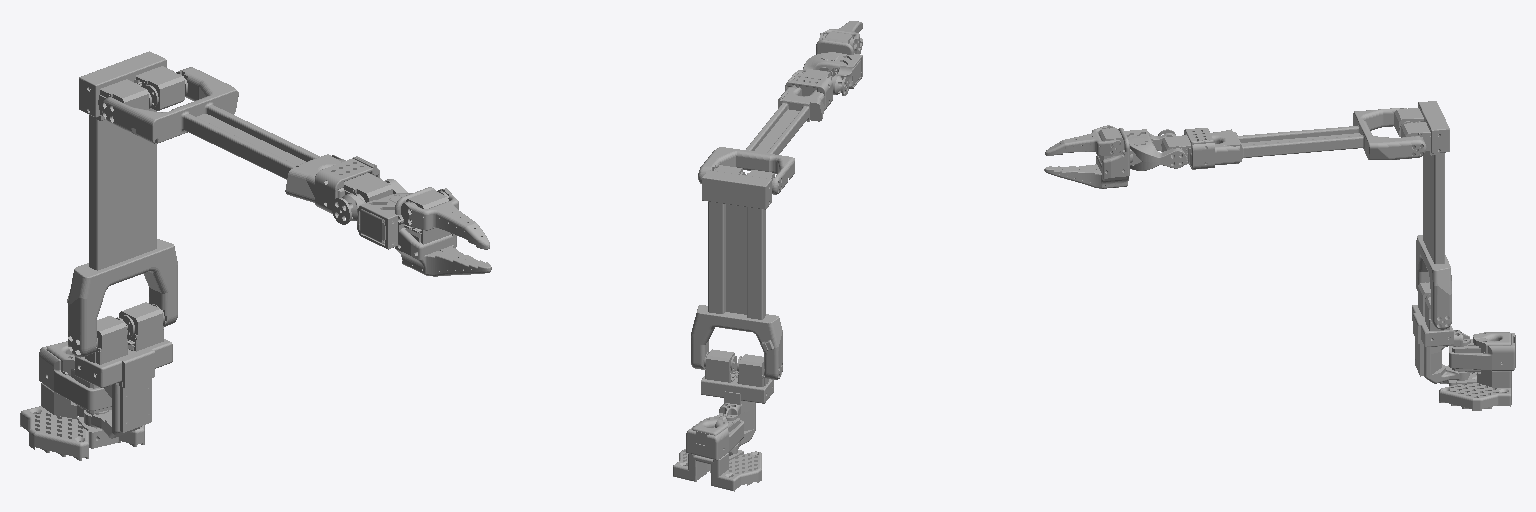
URDF robot description (PingTi_Arm_v3):
<?xml version="1.0" ?>
<!-- =================================================================================== -->
<!-- |    This document was autogenerated by xacro from /root/PingTi_Arm_v3_description/urdf/PingTi_Arm_v3.xacro | -->
<!-- |    EDITING THIS FILE BY HAND IS NOT RECOMMENDED                                 | -->
<!-- =================================================================================== -->
<robot name="PingTi_Arm_v3">
  <material name="silver">
    <color rgba="0.700 0.700 0.700 1.000"/>
  </material>
  <transmission name="elbow_pitch_tran">
    <type>transmission_interface/SimpleTransmission</type>
    <joint name="elbow_pitch">
      <hardwareInterface>hardware_interface/EffortJointInterface</hardwareInterface>
    </joint>
    <actuator name="elbow_pitch_actr">
      <hardwareInterface>hardware_interface/EffortJointInterface</hardwareInterface>
      <mechanicalReduction>1</mechanicalReduction>
    </actuator>
  </transmission>
  <transmission name="wrist_pitch_tran">
    <type>transmission_interface/SimpleTransmission</type>
    <joint name="wrist_pitch">
      <hardwareInterface>hardware_interface/EffortJointInterface</hardwareInterface>
    </joint>
    <actuator name="wrist_pitch_actr">
      <hardwareInterface>hardware_interface/EffortJointInterface</hardwareInterface>
      <mechanicalReduction>1</mechanicalReduction>
    </actuator>
  </transmission>
  <transmission name="wrist_roll_tran">
    <type>transmission_interface/SimpleTransmission</type>
    <joint name="wrist_roll">
      <hardwareInterface>hardware_interface/EffortJointInterface</hardwareInterface>
    </joint>
    <actuator name="wrist_roll_actr">
      <hardwareInterface>hardware_interface/EffortJointInterface</hardwareInterface>
      <mechanicalReduction>1</mechanicalReduction>
    </actuator>
  </transmission>
  <transmission name="gripper_moving_tran">
    <type>transmission_interface/SimpleTransmission</type>
    <joint name="gripper_moving">
      <hardwareInterface>hardware_interface/EffortJointInterface</hardwareInterface>
    </joint>
    <actuator name="gripper_moving_actr">
      <hardwareInterface>hardware_interface/EffortJointInterface</hardwareInterface>
      <mechanicalReduction>1</mechanicalReduction>
    </actuator>
  </transmission>
  <transmission name="base_yaw_tran">
    <type>transmission_interface/SimpleTransmission</type>
    <joint name="base_yaw">
      <hardwareInterface>hardware_interface/EffortJointInterface</hardwareInterface>
    </joint>
    <actuator name="base_yaw_actr">
      <hardwareInterface>hardware_interface/EffortJointInterface</hardwareInterface>
      <mechanicalReduction>1</mechanicalReduction>
    </actuator>
  </transmission>
  <transmission name="shoulder_pitch_tran">
    <type>transmission_interface/SimpleTransmission</type>
    <joint name="shoulder_pitch">
      <hardwareInterface>hardware_interface/EffortJointInterface</hardwareInterface>
    </joint>
    <actuator name="shoulder_pitch_actr">
      <hardwareInterface>hardware_interface/EffortJointInterface</hardwareInterface>
      <mechanicalReduction>1</mechanicalReduction>
    </actuator>
  </transmission>
  <gazebo>
    <plugin filename="libgazebo_ros_control.so" name="control"/>
  </gazebo>
  <gazebo reference="base_link">
    <material>Gazebo/Silver</material>
    <mu1>0.2</mu1>
    <mu2>0.2</mu2>
    <selfCollide>true</selfCollide>
    <gravity>true</gravity>
  </gazebo>
  <gazebo reference="elbow_link_1">
    <material>Gazebo/Silver</material>
    <mu1>0.2</mu1>
    <mu2>0.2</mu2>
    <selfCollide>true</selfCollide>
  </gazebo>
  <gazebo reference="STS3215_wrist_pitch_1">
    <material>Gazebo/Silver</material>
    <mu1>0.2</mu1>
    <mu2>0.2</mu2>
    <selfCollide>true</selfCollide>
  </gazebo>
  <gazebo reference="wrist_link_1">
    <material>Gazebo/Silver</material>
    <mu1>0.2</mu1>
    <mu2>0.2</mu2>
    <selfCollide>true</selfCollide>
  </gazebo>
  <gazebo reference="STS3215_wrist_roll_1">
    <material>Gazebo/Silver</material>
    <mu1>0.2</mu1>
    <mu2>0.2</mu2>
    <selfCollide>true</selfCollide>
  </gazebo>
  <gazebo reference="gripper_mount_1">
    <material>Gazebo/Silver</material>
    <mu1>0.2</mu1>
    <mu2>0.2</mu2>
    <selfCollide>true</selfCollide>
  </gazebo>
  <gazebo reference="STS3215_gripper_1">
    <material>Gazebo/Silver</material>
    <mu1>0.2</mu1>
    <mu2>0.2</mu2>
    <selfCollide>true</selfCollide>
  </gazebo>
  <gazebo reference="moving_gripper_1">
    <material>Gazebo/Silver</material>
    <mu1>0.2</mu1>
    <mu2>0.2</mu2>
    <selfCollide>true</selfCollide>
  </gazebo>
  <gazebo reference="wrist_mount_link_1">
    <material>Gazebo/Silver</material>
    <mu1>0.2</mu1>
    <mu2>0.2</mu2>
    <selfCollide>true</selfCollide>
  </gazebo>
  <gazebo reference="STS3215_base_yaw_1">
    <material>Gazebo/Silver</material>
    <mu1>0.2</mu1>
    <mu2>0.2</mu2>
    <selfCollide>true</selfCollide>
  </gazebo>
  <gazebo reference="base_yaw_link_1">
    <material>Gazebo/Silver</material>
    <mu1>0.2</mu1>
    <mu2>0.2</mu2>
    <selfCollide>true</selfCollide>
  </gazebo>
  <gazebo reference="STS3215_shoulder_pitch_1_1">
    <material>Gazebo/Silver</material>
    <mu1>0.2</mu1>
    <mu2>0.2</mu2>
    <selfCollide>true</selfCollide>
  </gazebo>
  <gazebo reference="STS3215_shoulder_pitch_2_1">
    <material>Gazebo/Silver</material>
    <mu1>0.2</mu1>
    <mu2>0.2</mu2>
    <selfCollide>true</selfCollide>
  </gazebo>
  <gazebo reference="shoulder_link_1">
    <material>Gazebo/Silver</material>
    <mu1>0.2</mu1>
    <mu2>0.2</mu2>
    <selfCollide>true</selfCollide>
  </gazebo>
  <gazebo reference="STS3215_elbow_pitch_1_1">
    <material>Gazebo/Silver</material>
    <mu1>0.2</mu1>
    <mu2>0.2</mu2>
    <selfCollide>true</selfCollide>
  </gazebo>
  <gazebo reference="STS3215_elbow_pitch_2_1">
    <material>Gazebo/Silver</material>
    <mu1>0.2</mu1>
    <mu2>0.2</mu2>
    <selfCollide>true</selfCollide>
  </gazebo>
  <link name="base_link">
    <inertial>
      <origin rpy="0 0 0" xyz="-3.2942227991692706e-06 -0.016410113639789673 0.025524321515390098"/>
      <mass value="1.1606702094747876"/>
      <inertia ixx="0.001182" ixy="-0.0" ixz="0.0" iyy="0.001221" iyz="-0.000216" izz="0.001296"/>
    </inertial>
    <visual>
      <origin rpy="0 0 0" xyz="0 0 0"/>
      <geometry>
        <mesh filename="meshes/base_link.stl" scale="0.001 0.001 0.001"/>
      </geometry>
      <material name="silver"/>
    </visual>
    <collision>
      <origin rpy="0 0 0" xyz="0 0 0"/>
      <geometry>
        <mesh filename="meshes/base_link.stl" scale="0.001 0.001 0.001"/>
      </geometry>
    </collision>
  </link>
  <link name="elbow_link_1">
    <inertial>
      <origin rpy="0 0 0" xyz="-0.006368202700747123 -0.13257432066234234 -0.000710253994771759"/>
      <mass value="1.3232321824941673"/>
      <inertia ixx="0.009536" ixy="0.001261" ixz="7e-06" iyy="0.001028" iyz="-4.6e-05" izz="0.010469"/>
    </inertial>
    <visual>
      <origin rpy="0 0 0" xyz="-0.052878 0.100187 -0.3528"/>
      <geometry>
        <mesh filename="meshes/elbow_link_1.stl" scale="0.001 0.001 0.001"/>
      </geometry>
      <material name="silver"/>
    </visual>
    <collision>
      <origin rpy="0 0 0" xyz="-0.052878 0.100187 -0.3528"/>
      <geometry>
        <mesh filename="meshes/elbow_link_1.stl" scale="0.001 0.001 0.001"/>
      </geometry>
    </collision>
  </link>
  <link name="STS3215_wrist_pitch_1">
    <inertial>
      <origin rpy="0 0 0" xyz="-0.015103902665090832 -0.015364326843161913 -2.529961420916216e-07"/>
      <mass value="0.2843033831904074"/>
      <inertia ixx="6.1e-05" ixy="4e-06" ixz="-0.0" iyy="4e-05" iyz="-0.0" izz="7.3e-05"/>
    </inertial>
    <visual>
      <origin rpy="0 0 0" xyz="-0.088612 0.364006 -0.355125"/>
      <geometry>
        <mesh filename="meshes/STS3215_wrist_pitch_1.stl" scale="0.001 0.001 0.001"/>
      </geometry>
      <material name="silver"/>
    </visual>
    <collision>
      <origin rpy="0 0 0" xyz="-0.088612 0.364006 -0.355125"/>
      <geometry>
        <mesh filename="meshes/STS3215_wrist_pitch_1.stl" scale="0.001 0.001 0.001"/>
      </geometry>
    </collision>
  </link>
  <link name="wrist_link_1">
    <inertial>
      <origin rpy="0 0 0" xyz="0.019701433146455137 -0.022957641297722542 -5.135733105687823e-05"/>
      <mass value="0.2392168278135931"/>
      <inertia ixx="0.000118" ixy="-8e-06" ixz="-0.0" iyy="0.000123" iyz="0.0" izz="0.0002"/>
    </inertial>
    <visual>
      <origin rpy="0 0 0" xyz="-0.056252 0.395423 -0.354675"/>
      <geometry>
        <mesh filename="meshes/wrist_link_1.stl" scale="0.001 0.001 0.001"/>
      </geometry>
      <material name="silver"/>
    </visual>
    <collision>
      <origin rpy="0 0 0" xyz="-0.056252 0.395423 -0.354675"/>
      <geometry>
        <mesh filename="meshes/wrist_link_1.stl" scale="0.001 0.001 0.001"/>
      </geometry>
    </collision>
  </link>
  <link name="STS3215_wrist_roll_1">
    <inertial>
      <origin rpy="0 0 0" xyz="-0.008933246759550137 -0.020582128831145963 -2.5299615225016225e-07"/>
      <mass value="0.2843033831904074"/>
      <inertia ixx="4e-05" ixy="-4e-06" ixz="0.0" iyy="6.1e-05" iyz="-0.0" izz="7.3e-05"/>
    </inertial>
    <visual>
      <origin rpy="0 0 0" xyz="-0.078363 0.413656 -0.354675"/>
      <geometry>
        <mesh filename="meshes/STS3215_wrist_roll_1.stl" scale="0.001 0.001 0.001"/>
      </geometry>
      <material name="silver"/>
    </visual>
    <collision>
      <origin rpy="0 0 0" xyz="-0.078363 0.413656 -0.354675"/>
      <geometry>
        <mesh filename="meshes/STS3215_wrist_roll_1.stl" scale="0.001 0.001 0.001"/>
      </geometry>
    </collision>
  </link>
  <link name="gripper_mount_1">
    <inertial>
      <origin rpy="0 0 0" xyz="0.0026773059376802855 -0.020173178230651845 -0.01565257096694167"/>
      <mass value="0.44698022927880193"/>
      <inertia ixx="0.000327" ixy="3.1e-05" ixz="7e-06" iyy="0.000172" iyz="-5.5e-05" izz="0.000301"/>
    </inertial>
    <visual>
      <origin rpy="0 0 0" xyz="-0.087531 0.451084 -0.355125"/>
      <geometry>
        <mesh filename="meshes/gripper_mount_1.stl" scale="0.001 0.001 0.001"/>
      </geometry>
      <material name="silver"/>
    </visual>
    <collision>
      <origin rpy="0 0 0" xyz="-0.087531 0.451084 -0.355125"/>
      <geometry>
        <mesh filename="meshes/gripper_mount_1.stl" scale="0.001 0.001 0.001"/>
      </geometry>
    </collision>
  </link>
  <link name="STS3215_gripper_1">
    <inertial>
      <origin rpy="0 0 0" xyz="0.00012461197605628804 2.539181574140459e-05 0.02239868354094854"/>
      <mass value="0.2843033831904074"/>
      <inertia ixx="6.2e-05" ixy="-2e-06" ixz="-1e-06" iyy="7.3e-05" iyz="-0.0" izz="4e-05"/>
    </inertial>
    <visual>
      <origin rpy="0 0 0" xyz="-0.088124 0.465652 -0.338236"/>
      <geometry>
        <mesh filename="meshes/STS3215_gripper_1.stl" scale="0.001 0.001 0.001"/>
      </geometry>
      <material name="silver"/>
    </visual>
    <collision>
      <origin rpy="0 0 0" xyz="-0.088124 0.465652 -0.338236"/>
      <geometry>
        <mesh filename="meshes/STS3215_gripper_1.stl" scale="0.001 0.001 0.001"/>
      </geometry>
    </collision>
  </link>
  <link name="moving_gripper_1">
    <inertial>
      <origin rpy="0 0 0" xyz="-0.014635153287696837 -0.03276490039211122 -0.0005006987132448737"/>
      <mass value="0.1586808414280307"/>
      <inertia ixx="6.8e-05" ixy="1e-05" ixz="1e-06" iyy="2.6e-05" iyz="-4e-06" izz="8.7e-05"/>
    </inertial>
    <visual>
      <origin rpy="0 0 0" xyz="-0.107931 0.461685 -0.373436"/>
      <geometry>
        <mesh filename="meshes/moving_gripper_1.stl" scale="0.001 0.001 0.001"/>
      </geometry>
      <material name="silver"/>
    </visual>
    <collision>
      <origin rpy="0 0 0" xyz="-0.107931 0.461685 -0.373436"/>
      <geometry>
        <mesh filename="meshes/moving_gripper_1.stl" scale="0.001 0.001 0.001"/>
      </geometry>
    </collision>
  </link>
  <link name="wrist_mount_link_1">
    <inertial>
      <origin rpy="0 0 0" xyz="0.022710832853232152 0.004489136774674496 0.0018439782253499293"/>
      <mass value="0.10853073755546008"/>
      <inertia ixx="2.8e-05" ixy="-6e-06" ixz="-0.0" iyy="5.7e-05" iyz="0.0" izz="4.6e-05"/>
    </inertial>
    <visual>
      <origin rpy="0 0 0" xyz="-0.046447 0.363782 -0.3548"/>
      <geometry>
        <mesh filename="meshes/wrist_mount_link_1.stl" scale="0.001 0.001 0.001"/>
      </geometry>
      <material name="silver"/>
    </visual>
    <collision>
      <origin rpy="0 0 0" xyz="-0.046447 0.363782 -0.3548"/>
      <geometry>
        <mesh filename="meshes/wrist_mount_link_1.stl" scale="0.001 0.001 0.001"/>
      </geometry>
    </collision>
  </link>
  <link name="STS3215_base_yaw_1">
    <inertial>
      <origin rpy="0 0 0" xyz="6.752884890919568e-12 0.02300097243678148 0.00012706492471613318"/>
      <mass value="0.2843033831904074"/>
      <inertia ixx="7.3e-05" ixy="-0.0" ixz="0.0" iyy="4e-05" iyz="1e-06" izz="6.2e-05"/>
    </inertial>
    <visual>
      <origin rpy="0 0 0" xyz="0.0 0.0554 -0.0481"/>
      <geometry>
        <mesh filename="meshes/STS3215_base_yaw_1.stl" scale="0.001 0.001 0.001"/>
      </geometry>
      <material name="silver"/>
    </visual>
    <collision>
      <origin rpy="0 0 0" xyz="0.0 0.0554 -0.0481"/>
      <geometry>
        <mesh filename="meshes/STS3215_base_yaw_1.stl" scale="0.001 0.001 0.001"/>
      </geometry>
    </collision>
  </link>
  <link name="base_yaw_link_1">
    <inertial>
      <origin rpy="0 0 0" xyz="0.0066121913949635435 -0.03322206721963538 0.03628999238042017"/>
      <mass value="0.8041215139582379"/>
      <inertia ixx="0.000599" ixy="-7e-06" ixz="-9e-06" iyy="0.000638" iyz="3.9e-05" izz="0.00036"/>
    </inertial>
    <visual>
      <origin rpy="0 0 0" xyz="0.0 0.0452 -0.0298"/>
      <geometry>
        <mesh filename="meshes/base_yaw_link_1.stl" scale="0.001 0.001 0.001"/>
      </geometry>
      <material name="silver"/>
    </visual>
    <collision>
      <origin rpy="0 0 0" xyz="0.0 0.0452 -0.0298"/>
      <geometry>
        <mesh filename="meshes/base_yaw_link_1.stl" scale="0.001 0.001 0.001"/>
      </geometry>
    </collision>
  </link>
  <link name="STS3215_shoulder_pitch_1_1">
    <inertial>
      <origin rpy="0 0 0" xyz="0.00012478845663918547 2.5028932493509348e-05 0.02239902756319745"/>
      <mass value="0.2843033831904074"/>
      <inertia ixx="6.2e-05" ixy="-2e-06" ixz="-1e-06" iyy="7.3e-05" iyz="-0.0" izz="4e-05"/>
    </inertial>
    <visual>
      <origin rpy="0 0 0" xyz="-0.026994 0.0735 -0.0864"/>
      <geometry>
        <mesh filename="meshes/STS3215_shoulder_pitch_1_1.stl" scale="0.001 0.001 0.001"/>
      </geometry>
      <material name="silver"/>
    </visual>
    <collision>
      <origin rpy="0 0 0" xyz="-0.026994 0.0735 -0.0864"/>
      <geometry>
        <mesh filename="meshes/STS3215_shoulder_pitch_1_1.stl" scale="0.001 0.001 0.001"/>
      </geometry>
    </collision>
  </link>
  <link name="STS3215_shoulder_pitch_2_1">
    <inertial>
      <origin rpy="0 0 0" xyz="-0.00012502334154068304 -2.491142533807278e-05 0.022399027563196117"/>
      <mass value="0.2843033831904074"/>
      <inertia ixx="6.2e-05" ixy="-2e-06" ixz="1e-06" iyy="7.3e-05" iyz="0.0" izz="4e-05"/>
    </inertial>
    <visual>
      <origin rpy="0 0 0" xyz="0.014013 0.081713 -0.0864"/>
      <geometry>
        <mesh filename="meshes/STS3215_shoulder_pitch_2_1.stl" scale="0.001 0.001 0.001"/>
      </geometry>
      <material name="silver"/>
    </visual>
    <collision>
      <origin rpy="0 0 0" xyz="0.014013 0.081713 -0.0864"/>
      <geometry>
        <mesh filename="meshes/STS3215_shoulder_pitch_2_1.stl" scale="0.001 0.001 0.001"/>
      </geometry>
    </collision>
  </link>
  <link name="shoulder_link_1">
    <inertial>
      <origin rpy="0 0 0" xyz="-0.04009132750395989 -0.008071300634675801 0.1143995501318232"/>
      <mass value="1.815312307803877"/>
      <inertia ixx="0.010722" ixy="-0.000321" ixz="0.0" iyy="0.012269" iyz="-6.4e-05" izz="0.001796"/>
    </inertial>
    <visual>
      <origin rpy="0 0 0" xyz="-0.046712 0.069092 -0.12115"/>
      <geometry>
        <mesh filename="meshes/shoulder_link_1.stl" scale="0.001 0.001 0.001"/>
      </geometry>
      <material name="silver"/>
    </visual>
    <collision>
      <origin rpy="0 0 0" xyz="-0.046712 0.069092 -0.12115"/>
      <geometry>
        <mesh filename="meshes/shoulder_link_1.stl" scale="0.001 0.001 0.001"/>
      </geometry>
    </collision>
  </link>
  <link name="STS3215_elbow_pitch_1_1">
    <inertial>
      <origin rpy="0 0 0" xyz="0.004523009170013775 -0.021937733328752027 -2.5253846619444076e-07"/>
      <mass value="0.2843033831904074"/>
      <inertia ixx="6e-05" ixy="5e-06" ixz="-0.0" iyy="4.1e-05" iyz="0.0" izz="7.3e-05"/>
    </inertial>
    <visual>
      <origin rpy="0 0 0" xyz="-0.026159 0.069639 -0.3528"/>
      <geometry>
        <mesh filename="meshes/STS3215_elbow_pitch_1_1.stl" scale="0.001 0.001 0.001"/>
      </geometry>
      <material name="silver"/>
    </visual>
    <collision>
      <origin rpy="0 0 0" xyz="-0.026159 0.069639 -0.3528"/>
      <geometry>
        <mesh filename="meshes/STS3215_elbow_pitch_1_1.stl" scale="0.001 0.001 0.001"/>
      </geometry>
    </collision>
  </link>
  <link name="STS3215_elbow_pitch_2_1">
    <inertial>
      <origin rpy="0 0 0" xyz="0.004274566780616719 -0.02198820720088046 -2.525249563345433e-07"/>
      <mass value="0.2843033831904074"/>
      <inertia ixx="6.1e-05" ixy="4e-06" ixz="-0.0" iyy="4e-05" iyz="-0.0" izz="7.3e-05"/>
    </inertial>
    <visual>
      <origin rpy="0 0 0" xyz="0.014163 0.077714 -0.3528"/>
      <geometry>
        <mesh filename="meshes/STS3215_elbow_pitch_2_1.stl" scale="0.001 0.001 0.001"/>
      </geometry>
      <material name="silver"/>
    </visual>
    <collision>
      <origin rpy="0 0 0" xyz="0.014163 0.077714 -0.3528"/>
      <geometry>
        <mesh filename="meshes/STS3215_elbow_pitch_2_1.stl" scale="0.001 0.001 0.001"/>
      </geometry>
    </collision>
  </link>
  <joint name="elbow_pitch" type="revolute">
    <origin rpy="0 0 0" xyz="0.026719 -0.030548 0.0"/>
    <parent link="STS3215_elbow_pitch_1_1"/>
    <child link="elbow_link_1"/>
    <axis xyz="-0.980528 -0.196381 0.0"/>
    <limit effort="100" lower="-1.570796" upper="1.919862" velocity="100"/>
  </joint>
  <joint name="elbow_wrist_servo_connect" type="fixed">
    <origin rpy="0 0 0" xyz="0.035734 -0.263819 0.002325"/>
    <parent link="elbow_link_1"/>
    <child link="STS3215_wrist_pitch_1"/>
  </joint>
  <joint name="wrist_pitch" type="revolute">
    <origin rpy="0 0 0" xyz="-0.03236 -0.031417 -0.00045"/>
    <parent link="STS3215_wrist_pitch_1"/>
    <child link="wrist_link_1"/>
    <axis xyz="-0.980528 -0.196381 -0.0"/>
    <limit effort="100" lower="-1.919862" upper="1.919862" velocity="100"/>
  </joint>
  <joint name="wrist_wrist_roll_connect" type="fixed">
    <origin rpy="0 0 0" xyz="0.022111 -0.018233 0.0"/>
    <parent link="wrist_link_1"/>
    <child link="STS3215_wrist_roll_1"/>
  </joint>
  <joint name="wrist_roll" type="continuous">
    <origin rpy="0 0 0" xyz="0.009168 -0.037428 0.00045"/>
    <parent link="STS3215_wrist_roll_1"/>
    <child link="gripper_mount_1"/>
    <axis xyz="0.196381 -0.980528 -0.0"/>
  </joint>
  <joint name="wrist_griper_mount_connect" type="fixed">
    <origin rpy="0 0 0" xyz="0.000593 -0.014568 -0.016889"/>
    <parent link="gripper_mount_1"/>
    <child link="STS3215_gripper_1"/>
  </joint>
  <joint name="gripper_moving" type="revolute">
    <origin rpy="0 0 0" xyz="0.019807 0.003967 0.0352"/>
    <parent link="STS3215_gripper_1"/>
    <child link="moving_gripper_1"/>
    <axis xyz="-0.980528 -0.196381 -0.0"/>
    <limit effort="100" lower="-0.20944" upper="1.570796" velocity="100"/>
  </joint>
  <joint name="wrist_mount_connect" type="fixed">
    <origin rpy="0 0 0" xyz="-0.006431 -0.263595 0.002"/>
    <parent link="elbow_link_1"/>
    <child link="wrist_mount_link_1"/>
  </joint>
  <joint name="base_link_mount_connect" type="fixed">
    <origin rpy="0 0 0" xyz="0.0 -0.0554 0.0481"/>
    <parent link="base_link"/>
    <child link="STS3215_base_yaw_1"/>
  </joint>
  <joint name="base_yaw" type="revolute">
    <origin rpy="0 0 0" xyz="0.0 0.0102 -0.0183"/>
    <parent link="STS3215_base_yaw_1"/>
    <child link="base_yaw_link_1"/>
    <axis xyz="0.0 0.0 -1.0"/>
    <limit effort="100" lower="-1.919862" upper="1.919862" velocity="100"/>
  </joint>
  <joint name="base_yaw_link_servo_1_connect" type="fixed">
    <origin rpy="0 0 0" xyz="0.026994 -0.0283 0.0566"/>
    <parent link="base_yaw_link_1"/>
    <child link="STS3215_shoulder_pitch_1_1"/>
  </joint>
  <joint name="base_yaw_link_servo_2_connect" type="fixed">
    <origin rpy="0 0 0" xyz="-0.014013 -0.036513 0.0566"/>
    <parent link="base_yaw_link_1"/>
    <child link="STS3215_shoulder_pitch_2_1"/>
  </joint>
  <joint name="shoulder_pitch" type="revolute">
    <origin rpy="0 0 0" xyz="0.019718 0.004408 0.03475"/>
    <parent link="STS3215_shoulder_pitch_1_1"/>
    <child link="shoulder_link_1"/>
    <axis xyz="0.980528 0.196381 -0.0"/>
    <limit effort="100" lower="-1.745329" upper="1.745329" velocity="100"/>
  </joint>
  <joint name="shoulder_link_servo1_connect" type="fixed">
    <origin rpy="0 0 0" xyz="-0.020553 -0.000547 0.23165"/>
    <parent link="shoulder_link_1"/>
    <child link="STS3215_elbow_pitch_1_1"/>
  </joint>
  <joint name="shoulder_link_servo2_connect" type="fixed">
    <origin rpy="0 0 0" xyz="-0.060875 -0.008622 0.23165"/>
    <parent link="shoulder_link_1"/>
    <child link="STS3215_elbow_pitch_2_1"/>
  </joint>
</robot>

--- Render facts (derived) ---
Views: 3 orthographic renders of the robot side by side, from view 1: azimuth 30°, elevation 25°; view 2: azimuth 150°, elevation 25°; view 3: azimuth 270°, elevation 25°.
Model PingTi_Arm_v3 with 16 links and 15 joints (5 revolute, 1 continuous, 9 fixed), rooted at base_link, posed all joints at 0.
Visible links, largest first — view 1: shoulder_link_1, elbow_link_1, base_link, base_yaw_link_1, gripper_mount_1, moving_gripper_1, wrist_link_1, wrist_mount_link_1, STS3215_shoulder_pitch_1_1, STS3215_elbow_pitch_1_1, STS3215_shoulder_pitch_2_1, STS3215_elbow_pitch_2_1 (+3 smaller); view 2: shoulder_link_1, elbow_link_1, base_link, base_yaw_link_1, wrist_link_1, STS3215_shoulder_pitch_1_1, STS3215_shoulder_pitch_2_1, wrist_mount_link_1; view 3: elbow_link_1, shoulder_link_1, base_link, base_yaw_link_1, gripper_mount_1, wrist_link_1, moving_gripper_1, wrist_mount_link_1.
Link boxes in pixels (box(x1,y1,x2,y2)): shoulder_link_1: box(67, 51, 177, 357); elbow_link_1: box(102, 67, 345, 205); base_link: box(20, 341, 144, 460); base_yaw_link_1: box(75, 339, 172, 438); gripper_mount_1: box(395, 187, 491, 276); moving_gripper_1: box(401, 188, 489, 249); wrist_link_1: box(332, 179, 411, 249); wrist_mount_link_1: box(315, 156, 379, 216); STS3215_shoulder_pitch_1_1: box(119, 302, 164, 351); STS3215_elbow_pitch_1_1: box(134, 66, 187, 110); STS3215_shoulder_pitch_2_1: box(85, 316, 127, 364); STS3215_elbow_pitch_2_1: box(98, 79, 151, 115); shoulder_link_1: box(691, 170, 782, 379); elbow_link_1: box(698, 85, 824, 194); base_link: box(673, 415, 761, 491); base_yaw_link_1: box(701, 373, 773, 453); wrist_link_1: box(797, 52, 862, 95); STS3215_shoulder_pitch_1_1: box(704, 349, 737, 382); STS3215_shoulder_pitch_2_1: box(736, 354, 768, 386); wrist_mount_link_1: box(785, 72, 832, 110); elbow_link_1: box(1190, 108, 1426, 165); shoulder_link_1: box(1416, 101, 1451, 329); base_link: box(1439, 332, 1515, 410); base_yaw_link_1: box(1412, 305, 1470, 383); gripper_mount_1: box(1044, 128, 1132, 188); wrist_link_1: box(1125, 129, 1186, 170); moving_gripper_1: box(1045, 125, 1123, 155); wrist_mount_link_1: box(1184, 128, 1214, 169).
Bounding box of the posed robot: 0.1684 × 0.5668 × 0.3846 m (x, y, z).
16 mesh visuals loaded from 16 distinct referenced files (16 binary STL).
